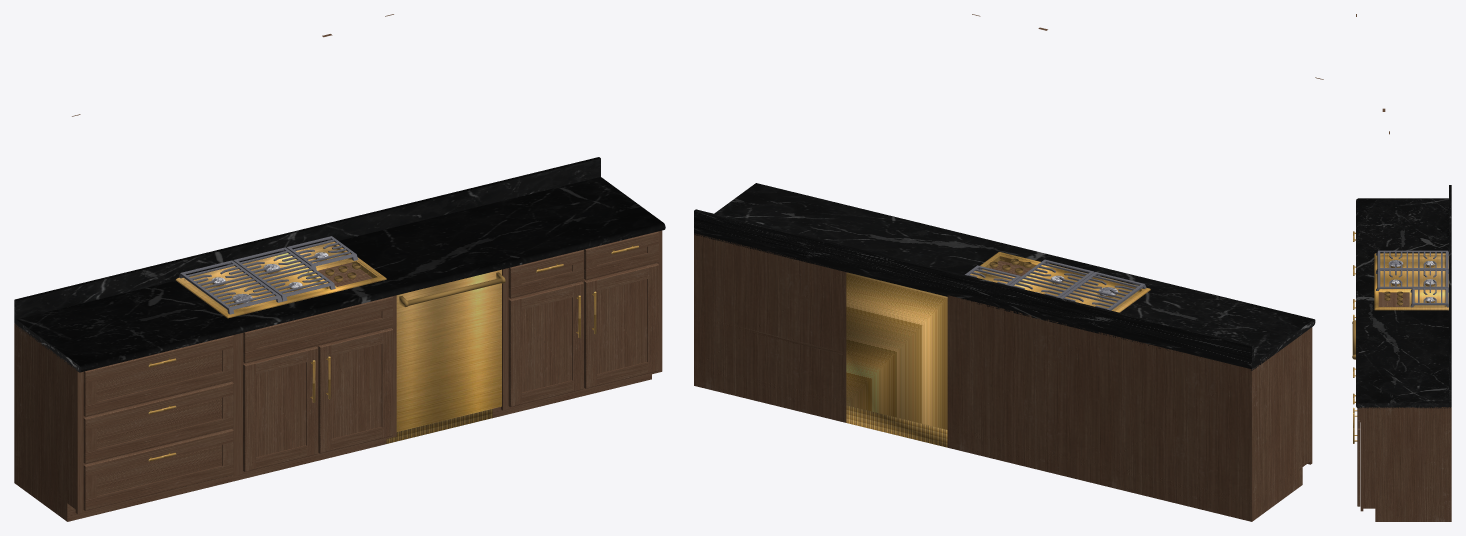
The model's file is cocina.obj.
3 views of the same model, side by side, from view 1: azimuth 30°, elevation 25°; view 2: azimuth 150°, elevation 25°; view 3: azimuth 270°, elevation 25° (orthographic). The views are drawn at different scales.
Visible parts, largest first — view 1: Cabinets, Appliances, Cooktop_Grill, Cabinet_Pulls; view 2: Cabinets, Appliances, Cooktop_Grill; view 3: Cabinets, Appliances, Cooktop_Grill, Cabinet_Pulls.
Boxes of the visible parts, <box> form: Cabinets: <box>14,14,665,521</box>; Appliances: <box>175,241,505,443</box>; Cooktop_Grill: <box>179,236,358,314</box>; Cabinet_Pulls: <box>148,245,638,461</box>; Cabinets: <box>694,14,1323,521</box>; Appliances: <box>846,252,1150,447</box>; Cooktop_Grill: <box>965,259,1146,310</box>; Cabinets: <box>1356,14,1451,521</box>; Appliances: <box>1352,253,1448,359</box>; Cooktop_Grill: <box>1376,250,1448,307</box>; Cabinet_Pulls: <box>1353,231,1357,443</box>.
Bounding box in the file's own units: 340 × 229 × 68.58.
Materials: 4 (4 with a texture image).
